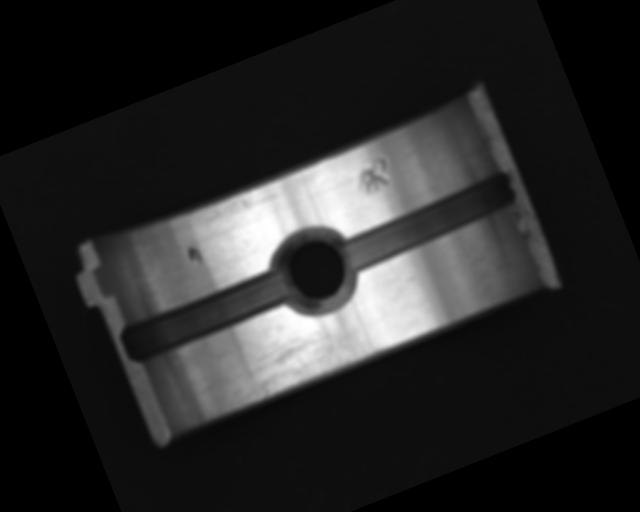blot: (185, 245, 203, 268)
bruise: (351, 155, 395, 197)
gap: (335, 165, 523, 275), (115, 263, 296, 367)
hole: (262, 215, 369, 326)
scratch: (213, 302, 390, 411)
